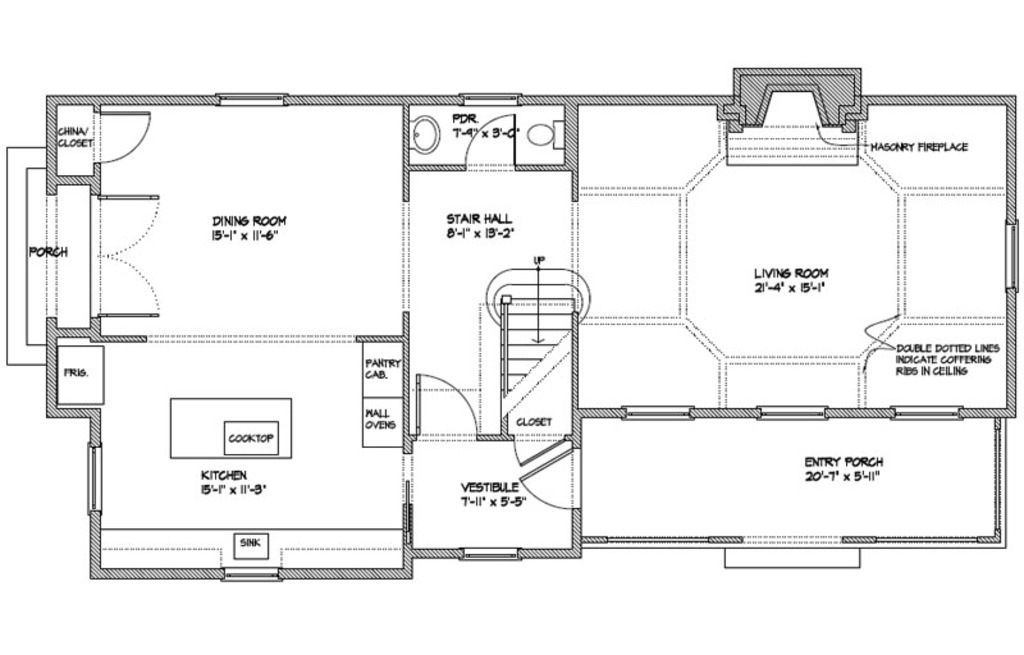door: (90, 188, 162, 324), (415, 373, 477, 442), (514, 451, 583, 511), (96, 103, 154, 170), (462, 115, 522, 170)
kitchen_bar: (165, 396, 294, 458)
large_sink: (521, 117, 562, 155)
small_sink: (407, 110, 443, 163)
stairs: (484, 255, 592, 442)
windows: (620, 401, 697, 424), (750, 402, 829, 424), (82, 442, 106, 513), (891, 401, 967, 423), (214, 90, 288, 111), (1004, 222, 1022, 292), (457, 90, 518, 108), (459, 546, 520, 563)
